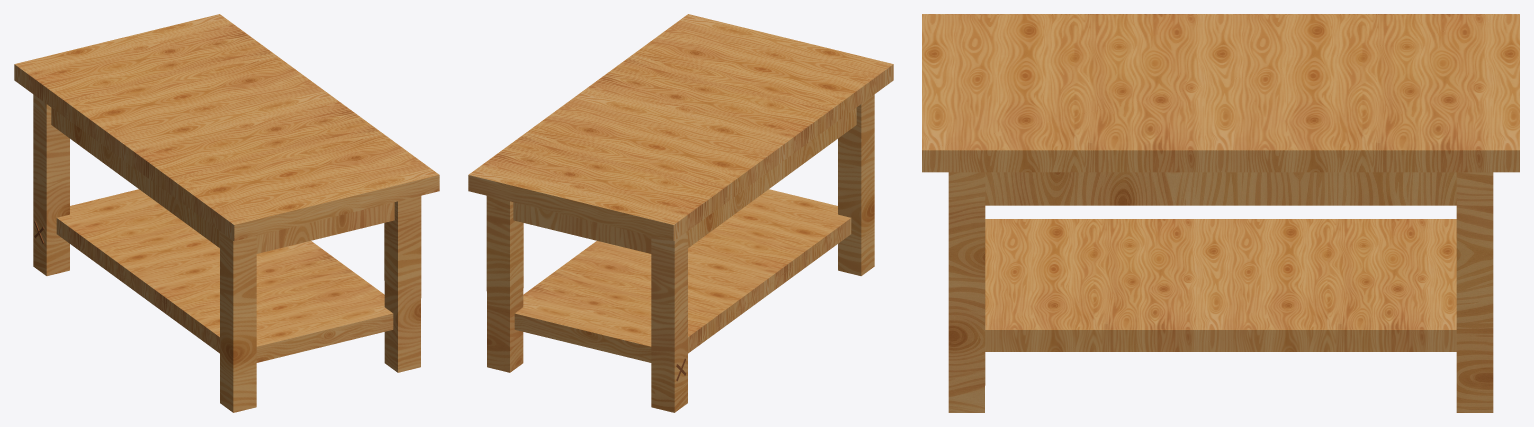
Rendered from Livingroom_Table_2_small.fbx.
3 renders of one model, left to right at view 1: azimuth 30°, elevation 25°; view 2: azimuth 150°, elevation 25°; view 3: azimuth 270°, elevation 25°, orthographic. The views are drawn at different scales.
Visible parts, largest first — view 1: Livingroom_Table_2_small; view 2: Livingroom_Table_2_small; view 3: Livingroom_Table_2_small.
Part boxes in pixels (x1,y1,x2,y2): Livingroom_Table_2_small: (14,14,439,412); Livingroom_Table_2_small: (468,14,893,412); Livingroom_Table_2_small: (922,14,1519,412).
Size of the model in its own units: 62.49 by 57.74 by 116.
